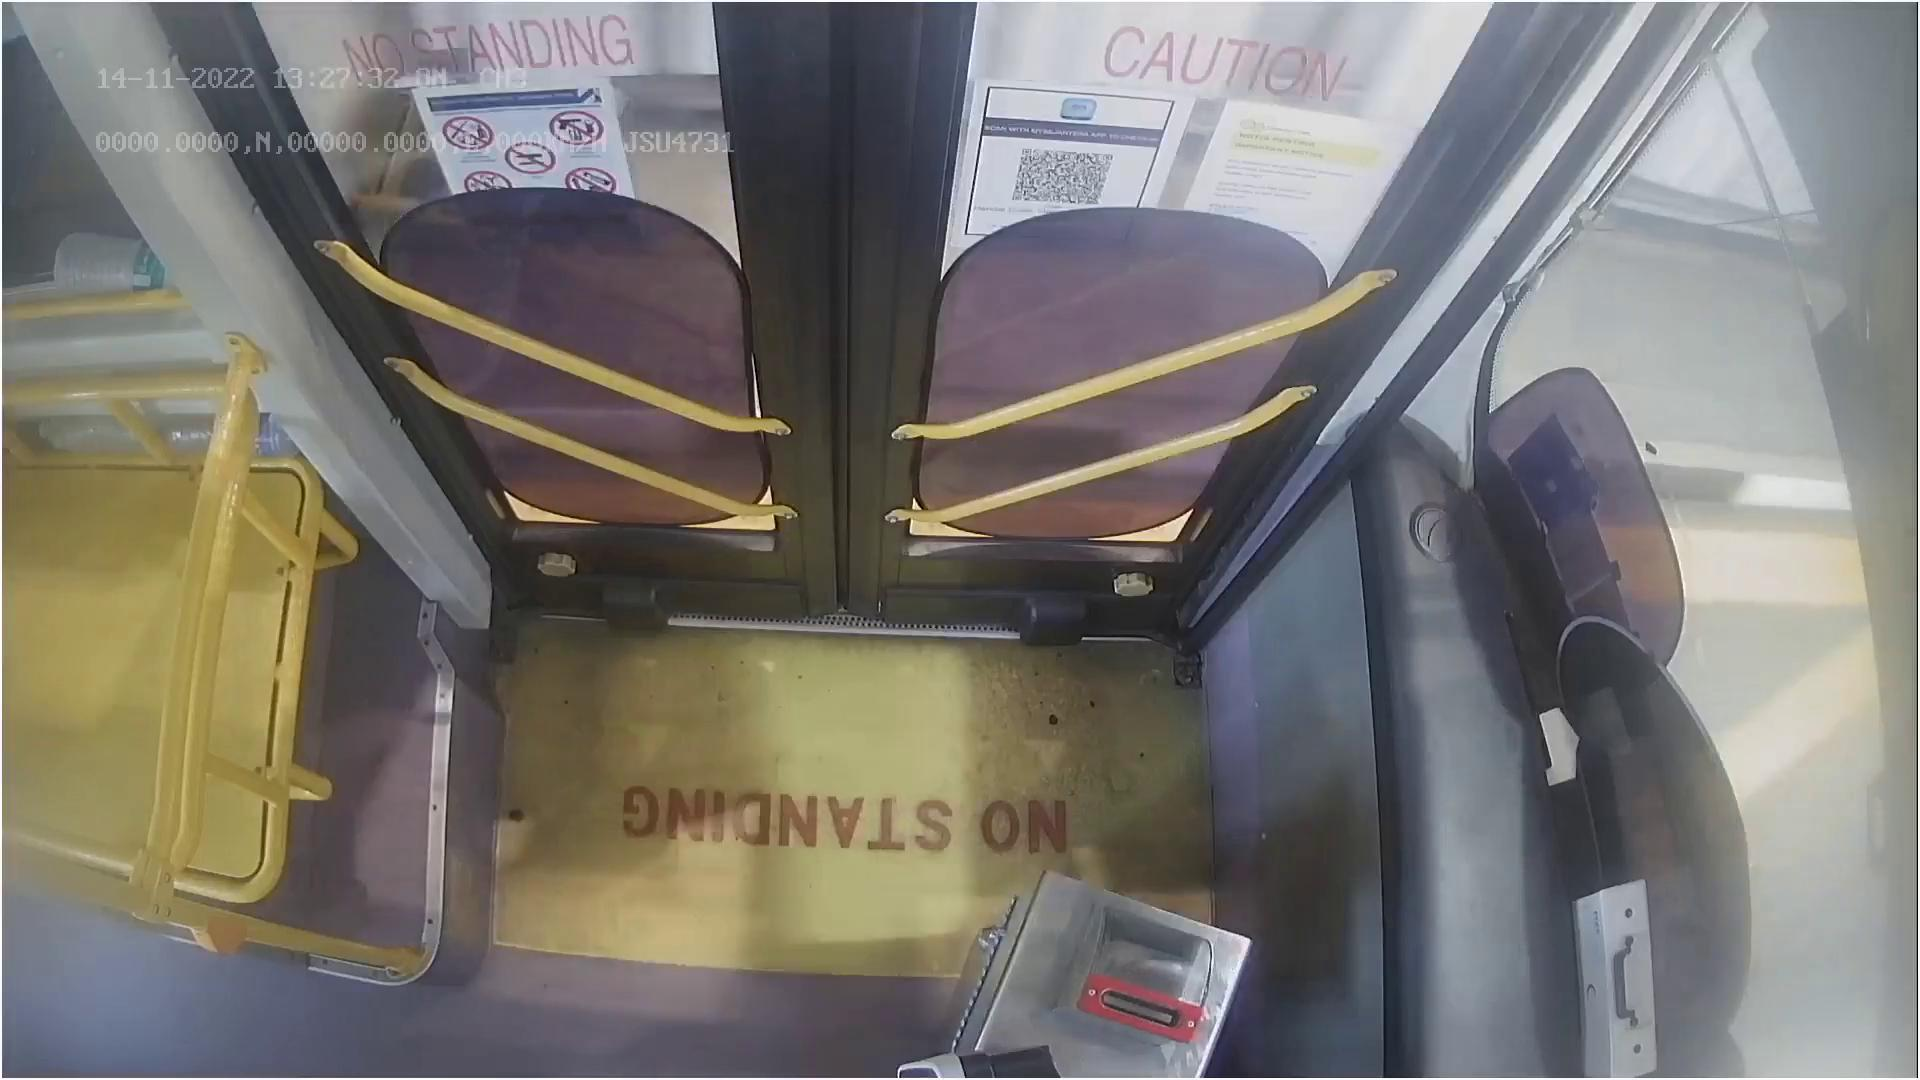close: (286, 0, 1451, 157)
